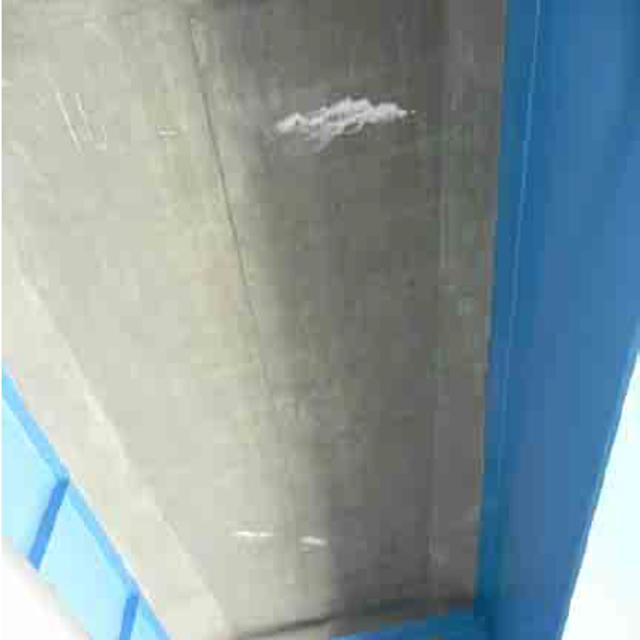freelime: (263, 93, 426, 161)
